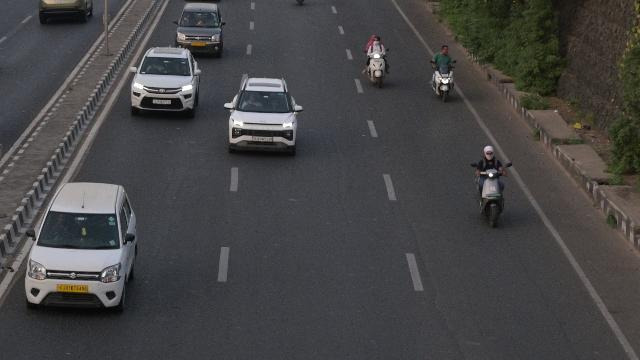Without Helmet: (480, 144, 498, 160), (440, 42, 450, 54), (373, 36, 381, 46)
